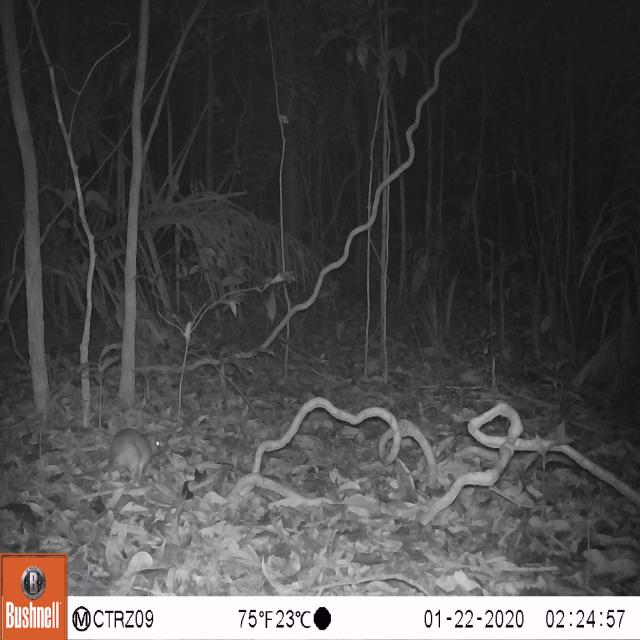Rodent: (100, 413, 174, 498)
